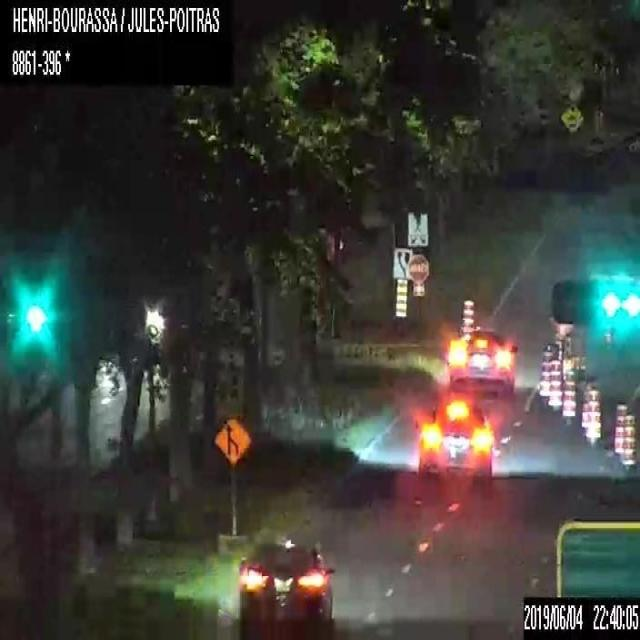construction: (211, 415, 251, 542), (617, 414, 639, 469), (584, 388, 601, 441), (610, 402, 627, 452), (548, 314, 572, 346), (546, 357, 561, 407), (537, 345, 551, 397), (562, 368, 575, 419), (579, 383, 591, 428), (460, 298, 475, 330)
vehicle: (236, 533, 333, 639), (416, 397, 494, 485), (448, 328, 517, 396)
